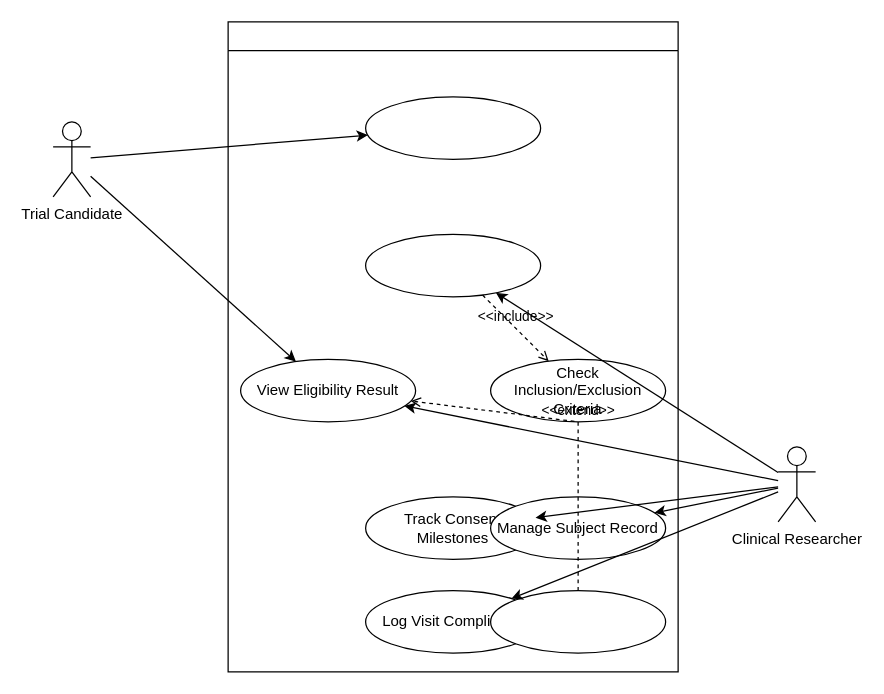
Some shapes in this 884 by 694 pixel diagram are drawn without their labels. The box of each missing label's shape, as (x1, y1, x2, y2) in pixels:
Clinical Trial Subject Recruitment Engine: (227, 21, 678, 672)
Evaluate Eligibility: (364, 233, 541, 297)
Review Failed Criteria: (489, 589, 666, 653)
Submit Screening Survey: (364, 96, 541, 159)
